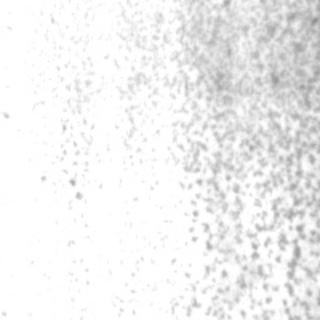pitted_surface: (164, 0, 316, 308), (42, 0, 160, 182)
